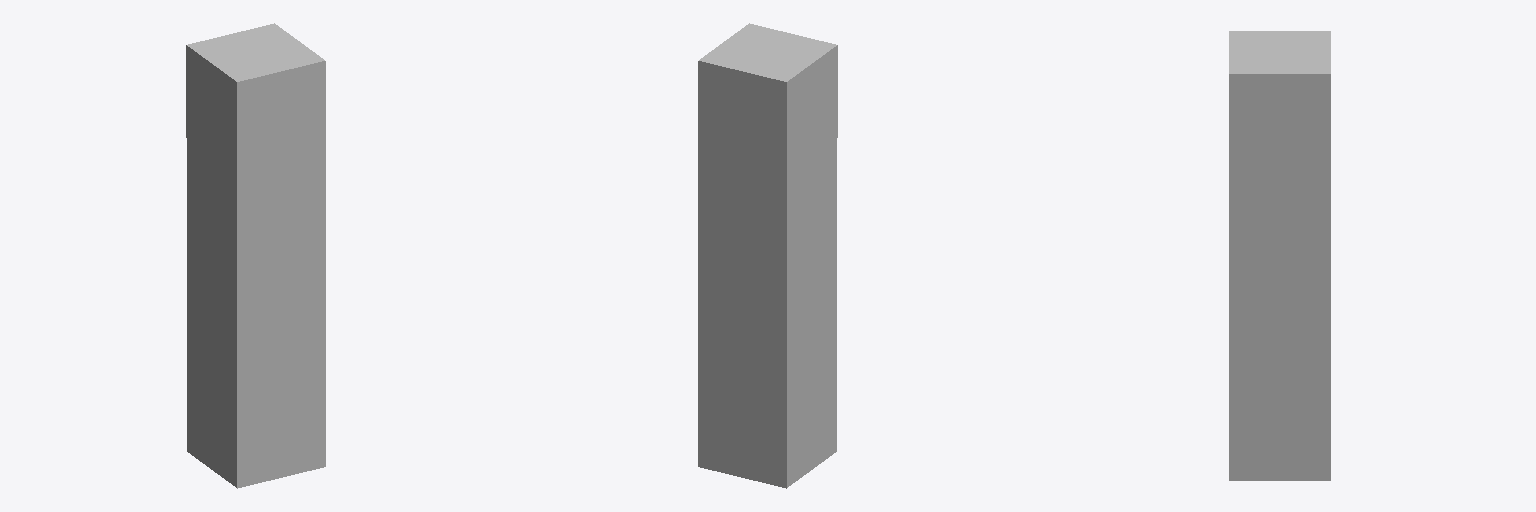
Rendered from torchfrim.obj.
3 views of the same model, side by side, from view 1: azimuth 30°, elevation 25°; view 2: azimuth 150°, elevation 25°; view 3: azimuth 270°, elevation 25° (orthographic).
Parts seen in each view (by area): view 1: Torch_Bottom, Torch_Top; view 2: Torch_Bottom, Torch_Top; view 3: Torch_Bottom, Torch_Top.
Boxes of the visible parts, x1=… form: Torch_Bottom: x1=187, y1=138, x2=325, y2=488; Torch_Top: x1=186, y1=23, x2=325, y2=174; Torch_Bottom: x1=698, y1=138, x2=836, y2=488; Torch_Top: x1=698, y1=23, x2=837, y2=174; Torch_Bottom: x1=1229, y1=167, x2=1330, y2=480; Torch_Top: x1=1229, y1=31, x2=1330, y2=166.
Bounding box in the file's own units: 0.5012 × 2.2 × 0.5001.